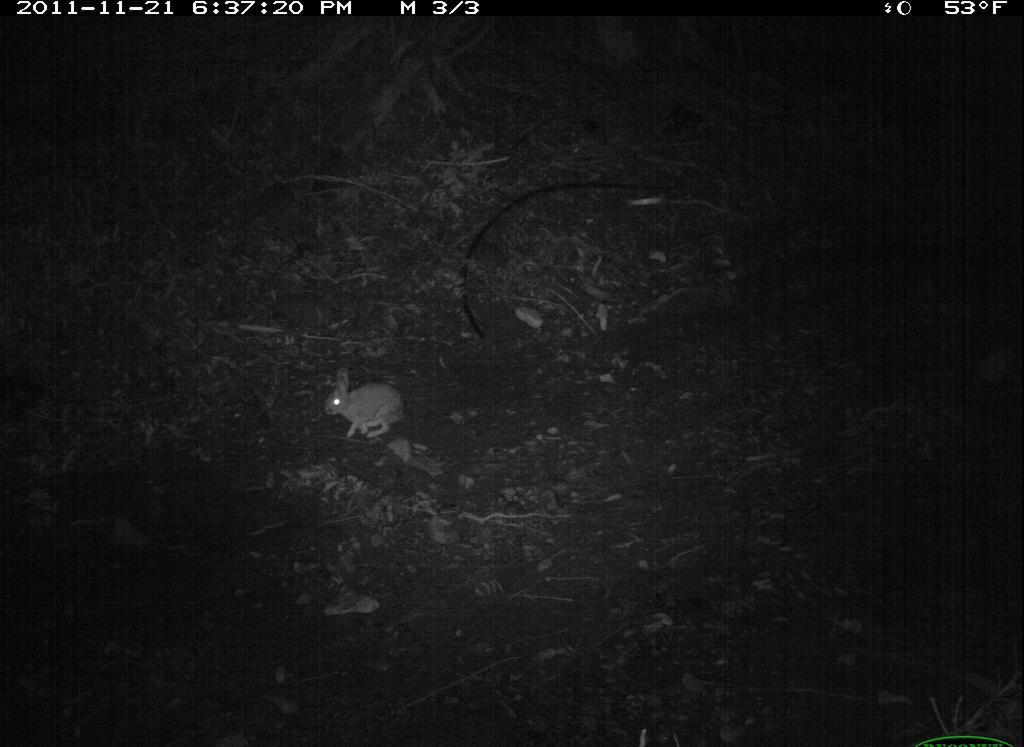rabbit: (321, 362, 412, 446)
